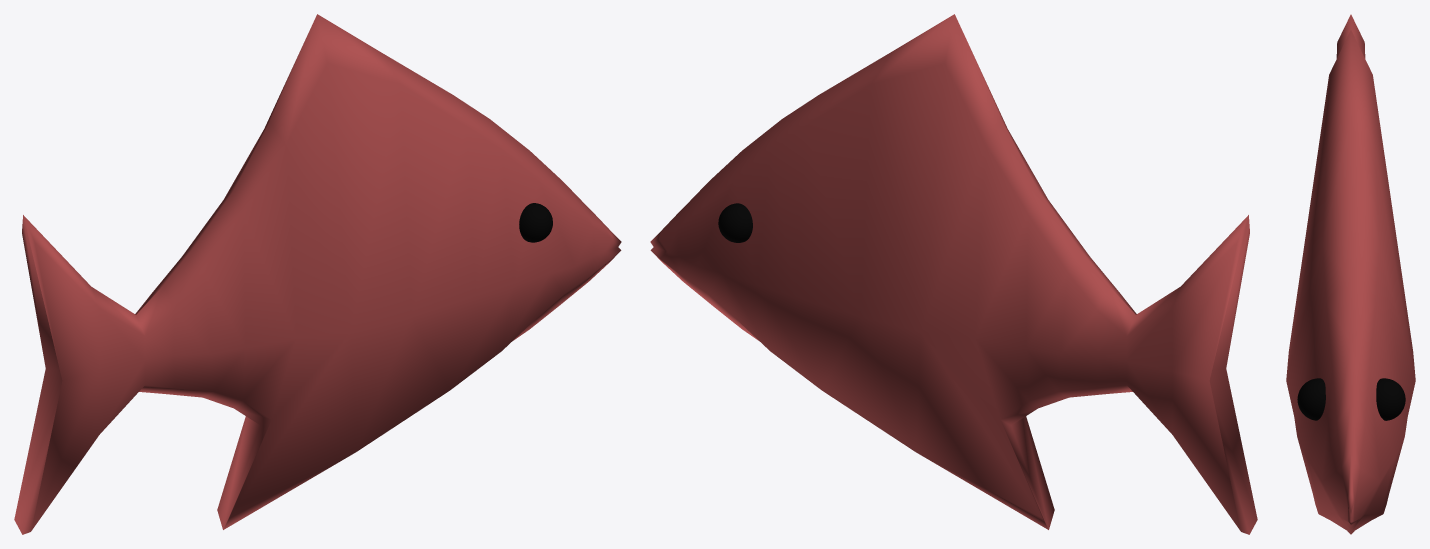
File: fish3.FBX
The picture shows the model from 3 angles, left to right: view 1: azimuth 30°, elevation 25°; view 2: azimuth 150°, elevation 25°; view 3: azimuth 270°, elevation 25°; orthographic projection. The views are drawn at different scales.
Visible parts, largest first — view 1: Box001, Sphere001; view 2: Box001, Sphere002; view 3: Box001, Sphere002, Sphere001.
Boxes of the visible parts, bbox=[...] form: Box001: bbox=[14, 14, 621, 534]; Sphere001: bbox=[519, 203, 552, 242]; Box001: bbox=[650, 14, 1257, 534]; Sphere002: bbox=[718, 203, 752, 242]; Box001: bbox=[1286, 14, 1415, 534]; Sphere002: bbox=[1376, 378, 1405, 420]; Sphere001: bbox=[1297, 378, 1325, 420].
Size of the model in its own units: 199 by 157 by 34.78.
